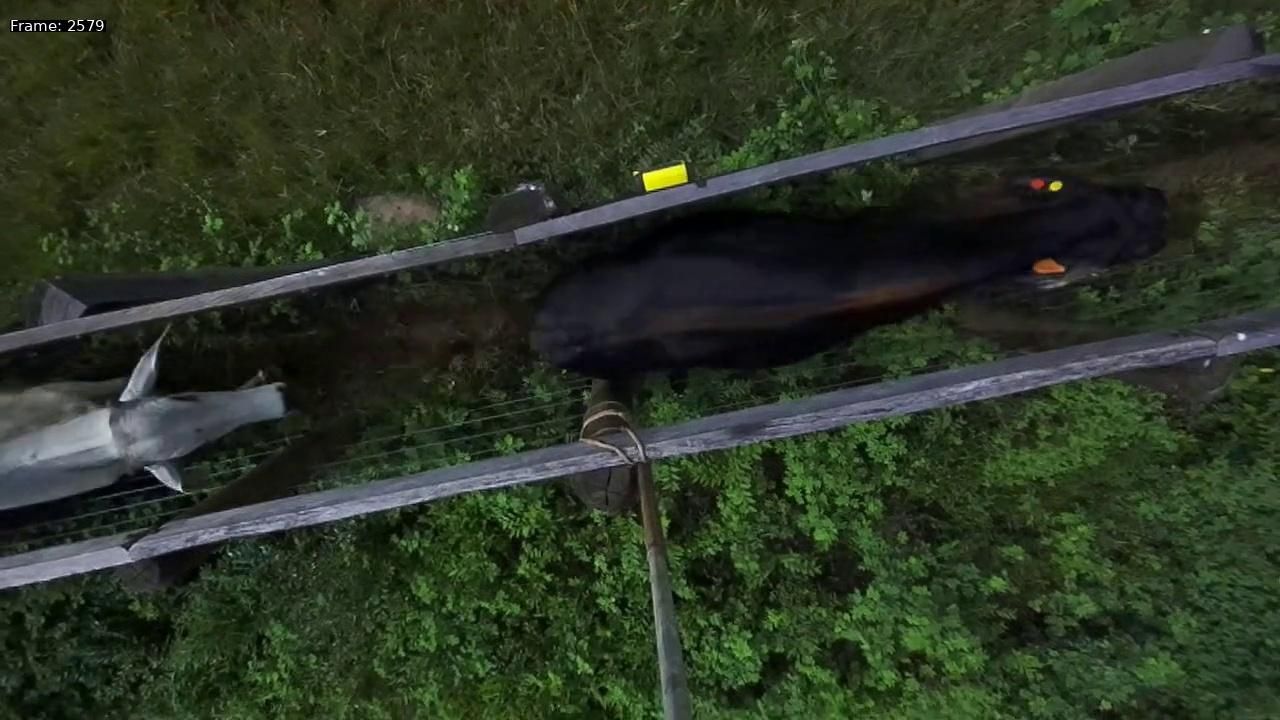cattle: (500, 130, 1194, 393)
